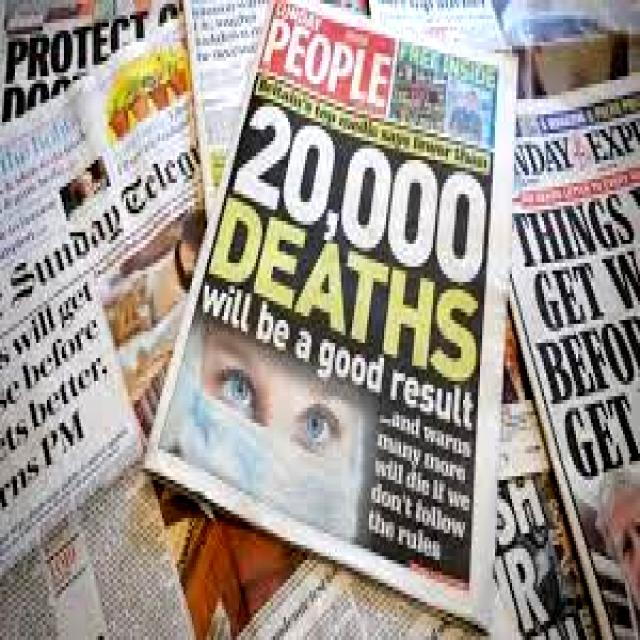Paper: (0, 0, 640, 640), (135, 0, 521, 640)
